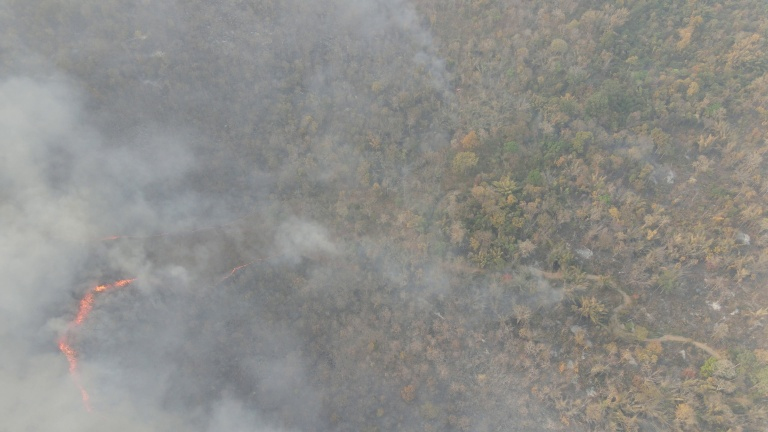fire: (58, 268, 146, 418), (220, 258, 247, 282), (93, 233, 155, 242)
smoke: (1, 113, 247, 432), (373, 10, 458, 114), (262, 217, 355, 277)
